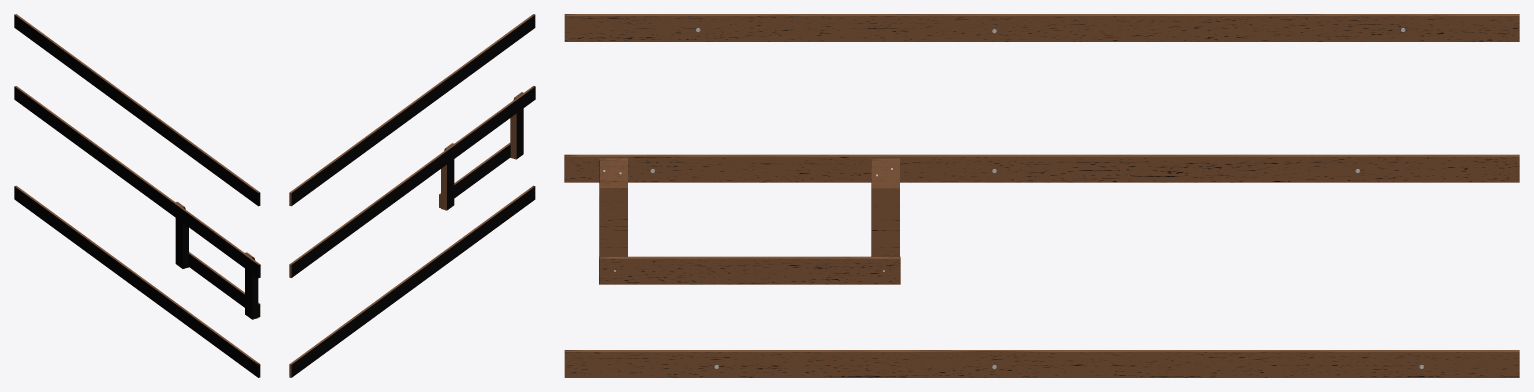
File: ToolWallMount.fbx
3 renders of one model, left to right at view 1: azimuth 30°, elevation 25°; view 2: azimuth 150°, elevation 25°; view 3: azimuth 270°, elevation 25°, orthographic. The views are drawn at different scales.
Visible parts, largest first — view 1: Cylinder.008; view 2: Cylinder.008; view 3: Cylinder.008.
Boxes of the visible parts, x1,y1,x2,y2 form: Cylinder.008: [14, 14, 260, 377]; Cylinder.008: [289, 14, 535, 377]; Cylinder.008: [564, 14, 1519, 377].
Size of the model in its own units: 2.15 by 0.0548 by 0.8998.
1 material, 1 textured.
